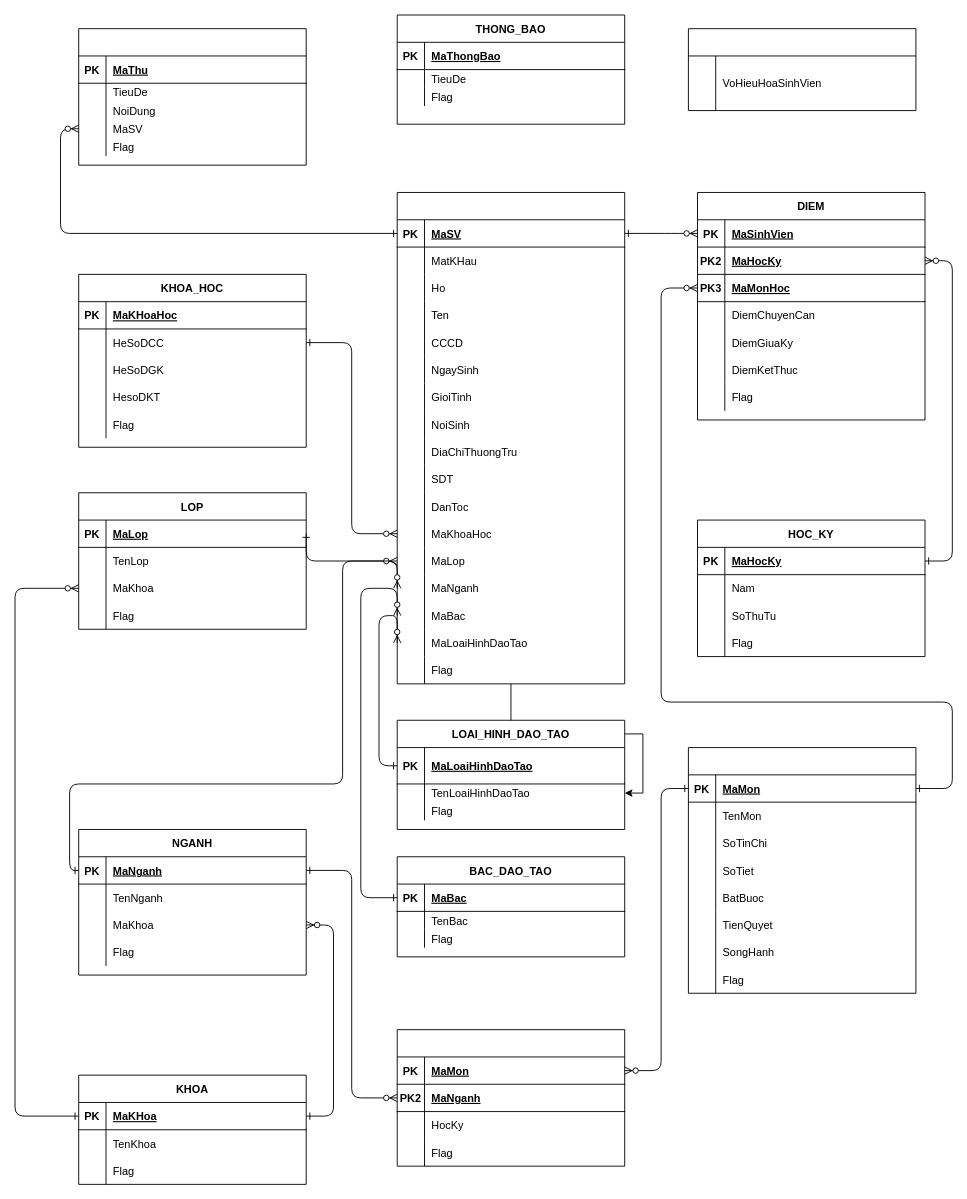
This 967x1199 diagram has some shape labels left out. Each missing label, with the box of its shape:
CHUONG_TRINH_KHUNG: (396, 1029, 625, 1166)
DIEU_KHIEN: (688, 28, 916, 111)
HOM_THU: (78, 28, 306, 165)
MON_HOC: (688, 747, 916, 993)
SINH_VIEN: (396, 192, 625, 684)
